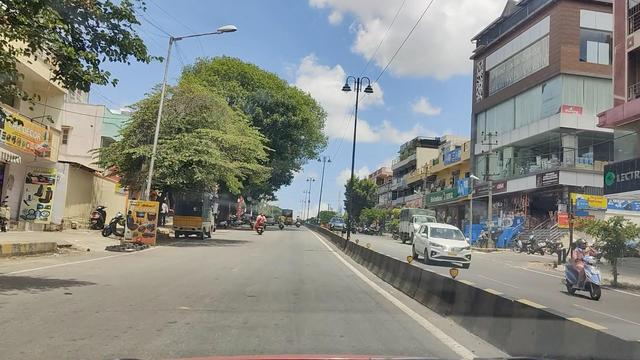HMV: (171, 190, 211, 241)
